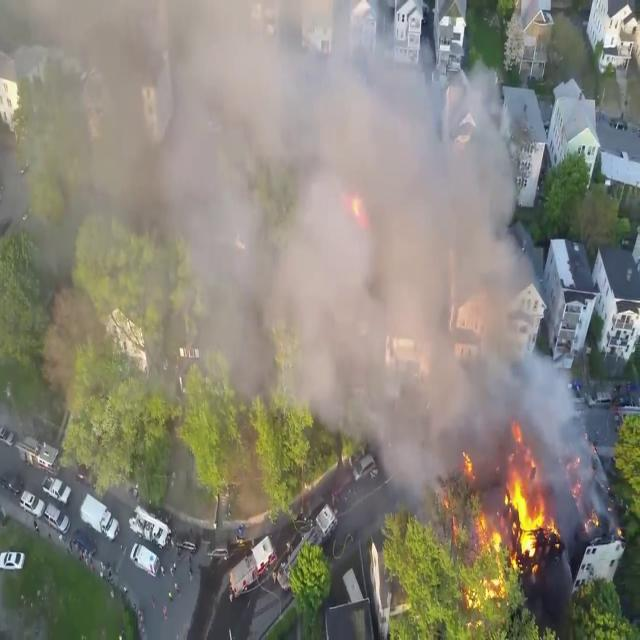Fire: (479, 437, 561, 564)
Smoke: (4, 0, 568, 495)
